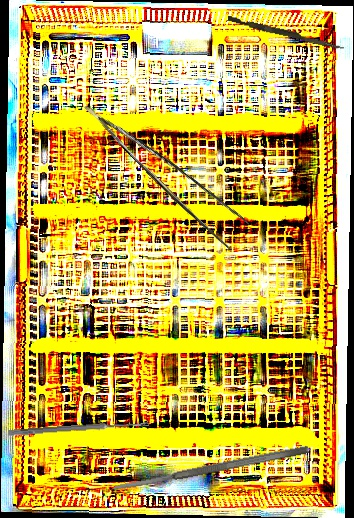Pusher: (226, 15, 346, 51)
Spatula Surgical: (111, 444, 310, 493)
Surgical Spoon: (7, 420, 150, 437)
Tissue Forceps: (83, 81, 257, 258)
